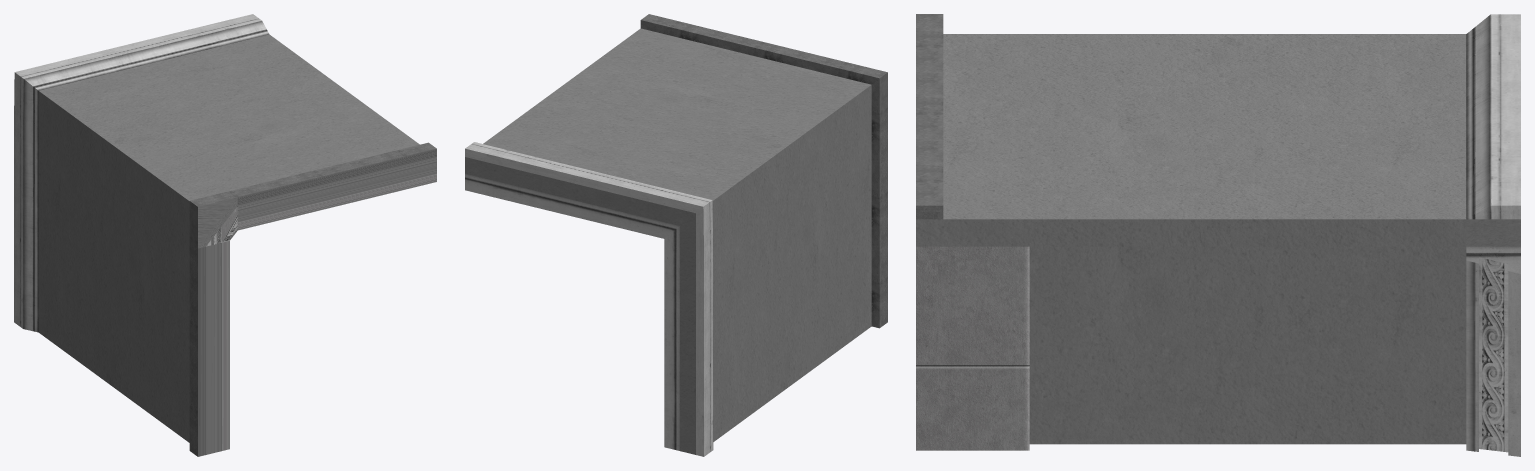
File: A_wall_ 4m_corner_B.fbx
The picture shows the model from 3 angles, left to right: view 1: azimuth 30°, elevation 25°; view 2: azimuth 150°, elevation 25°; view 3: azimuth 270°, elevation 25°; orthographic projection. The views are drawn at different scales.
Parts seen in each view (by area): view 1: A_wall__4m_corner_B; view 2: A_wall__4m_corner_B; view 3: A_wall__4m_corner_B.
Boxes of the visible parts, <box> form: A_wall__4m_corner_B: <box>14,14,436,456</box>; A_wall__4m_corner_B: <box>465,14,887,456</box>; A_wall__4m_corner_B: <box>916,14,1520,456</box>.
Size of the model in its own units: 3 by 3 by 4.
